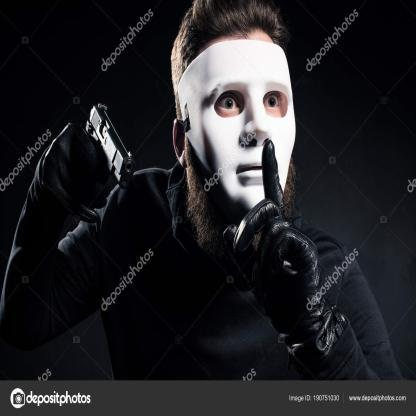criminal: (0, 0, 404, 380)
weapon: (84, 102, 137, 189)
